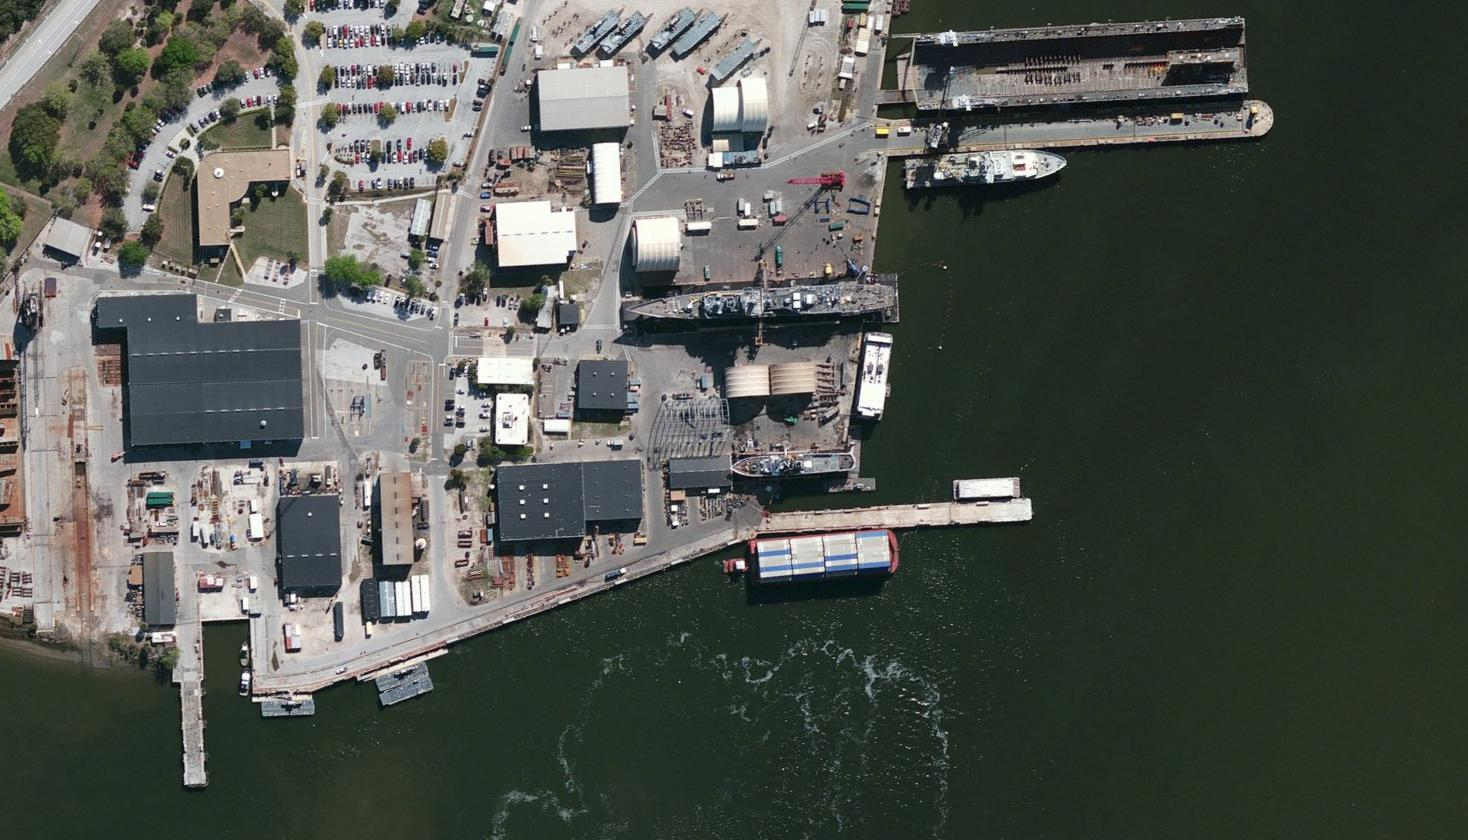fregate: (626, 279, 911, 331)
